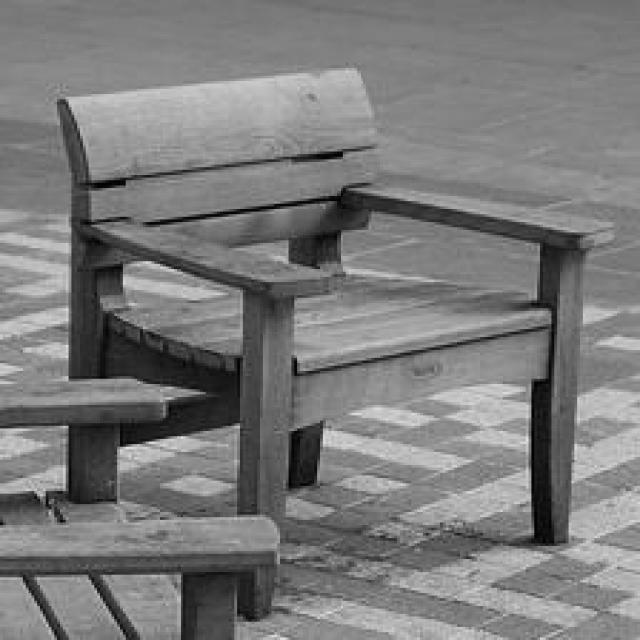chair: (63, 70, 618, 563), (0, 358, 280, 638)
